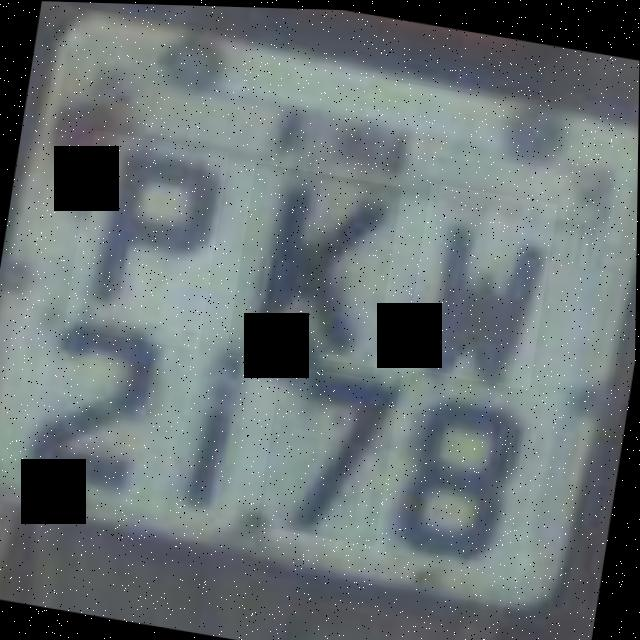1: (156, 329, 289, 525)
2: (2, 304, 198, 523)
7: (258, 350, 403, 544)
8: (392, 360, 547, 576)
K: (227, 160, 403, 378)
P: (65, 129, 230, 349)
W: (403, 180, 559, 388)
